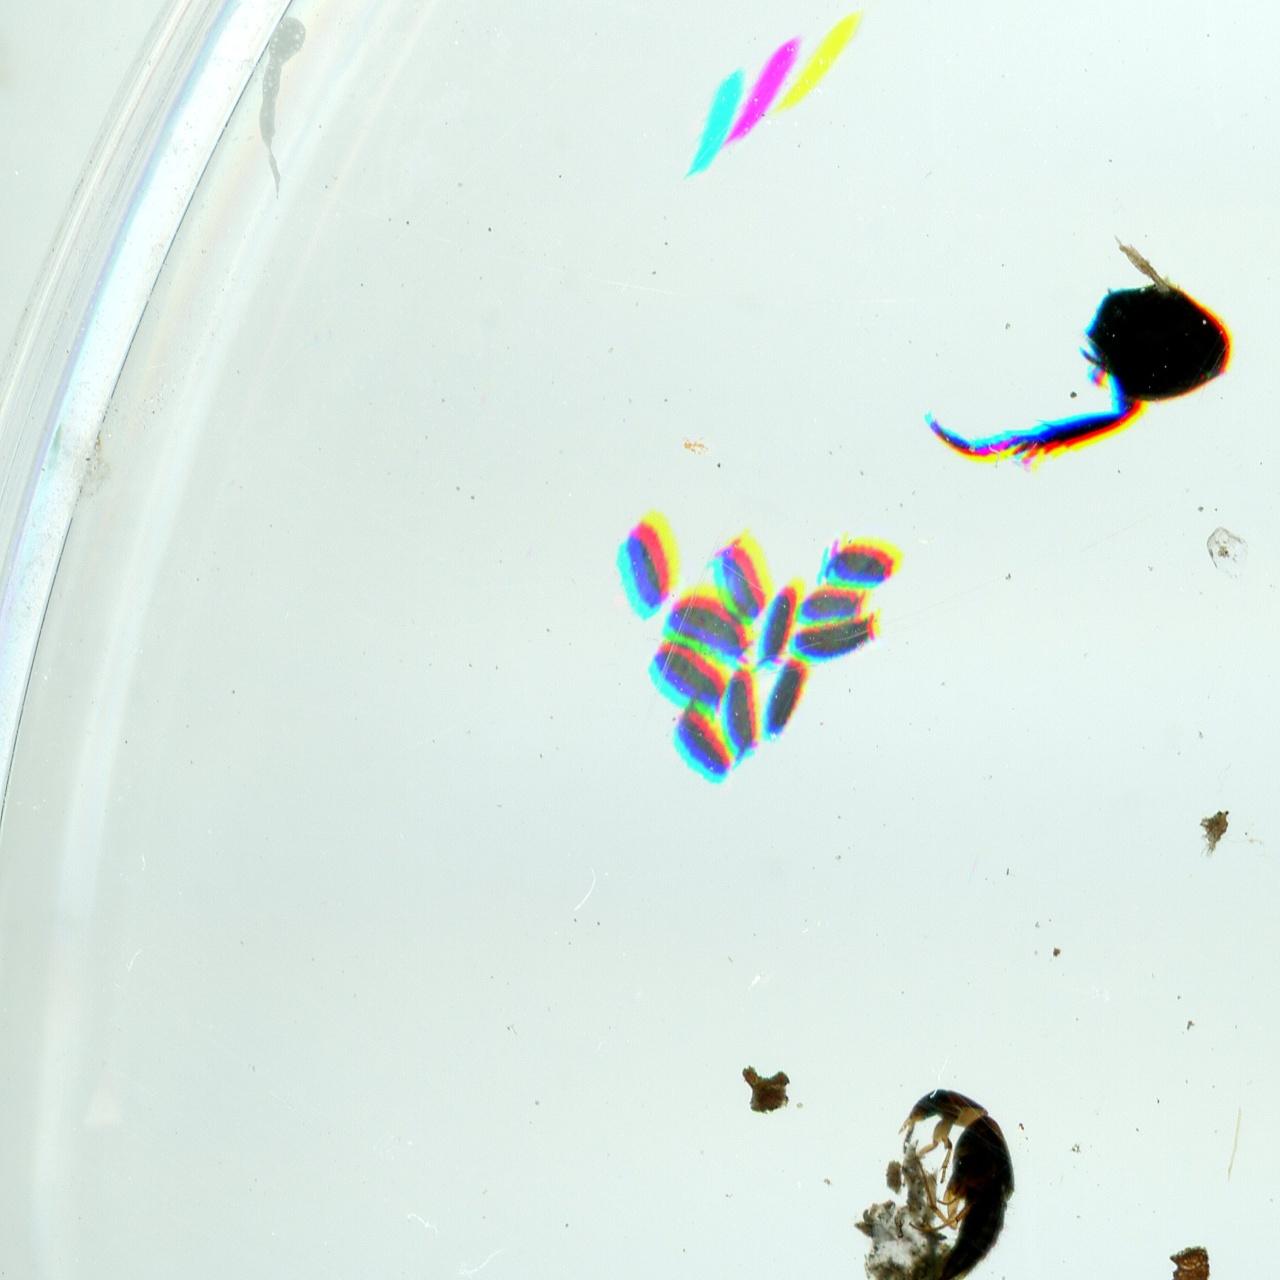arthropod: (896, 1081, 1019, 1280), (661, 580, 768, 672), (640, 627, 744, 720), (607, 511, 689, 614), (661, 699, 741, 788), (703, 531, 777, 626), (755, 652, 815, 748), (791, 614, 881, 665), (821, 539, 893, 587), (724, 661, 760, 757), (765, 571, 795, 651), (797, 587, 863, 622)
